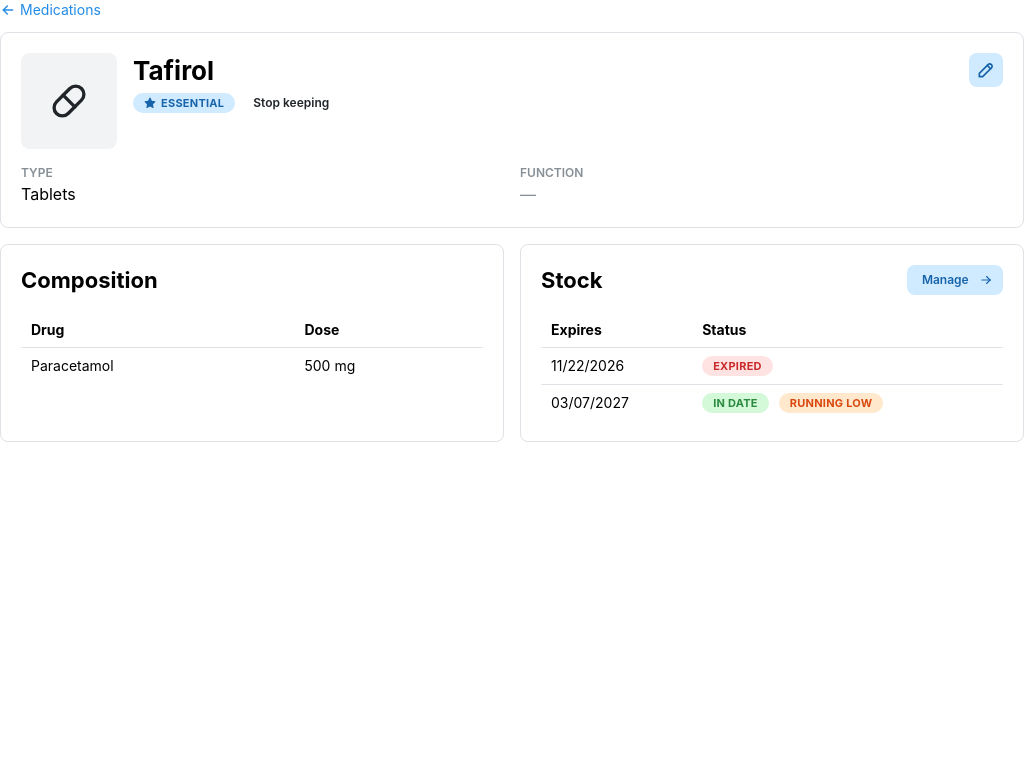
Scenario: MedicationDetailPage › essential › shows when its composition is essential, and asks before removing it
Later steps or results of the test are not shown.
expect the text "Essential" is shown: met, box [161,94,224,112]
Click the button "Stop keeping".
click(291, 103)  # box [245,92,337,114]
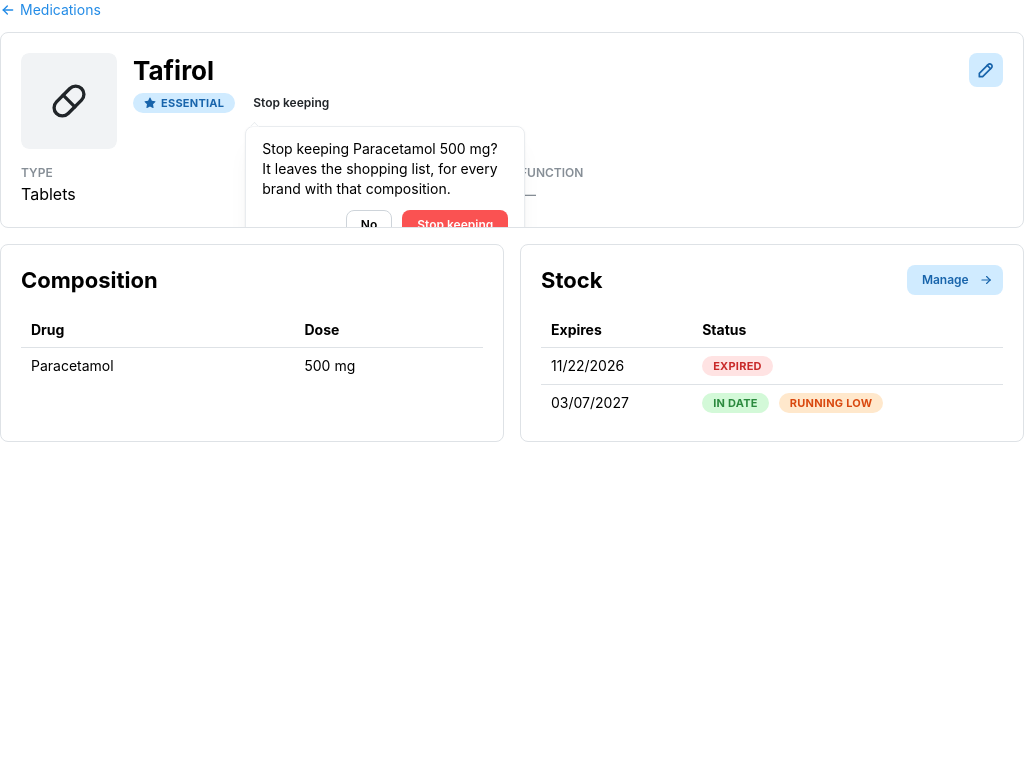
expect the text "Stop keeping Paracetamol 500 mg?" is shown: met, box [262,140,498,198]
